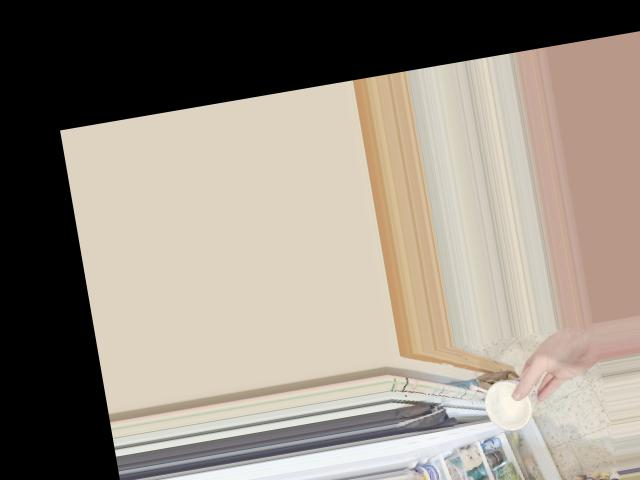cotage: (474, 373, 546, 433)
